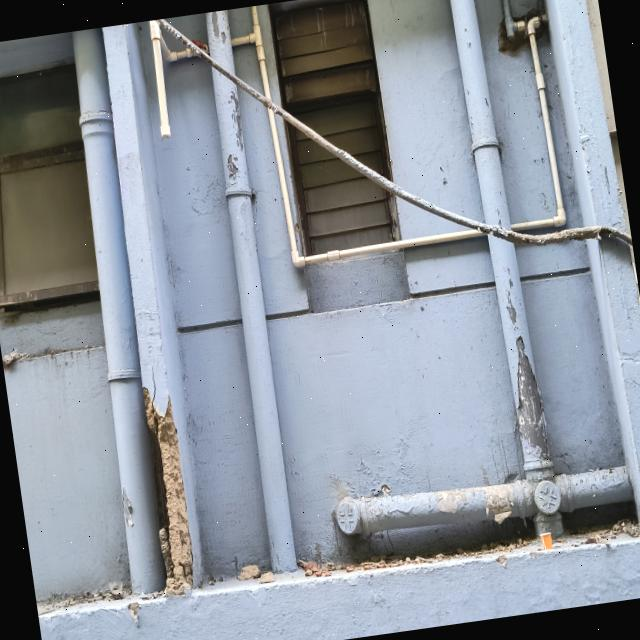Paint Peeling: (516, 336, 549, 458), (432, 484, 518, 523), (229, 92, 243, 151), (212, 10, 230, 46), (506, 279, 517, 327), (122, 487, 134, 526), (227, 154, 239, 181)
Spalling: (143, 387, 193, 595)
